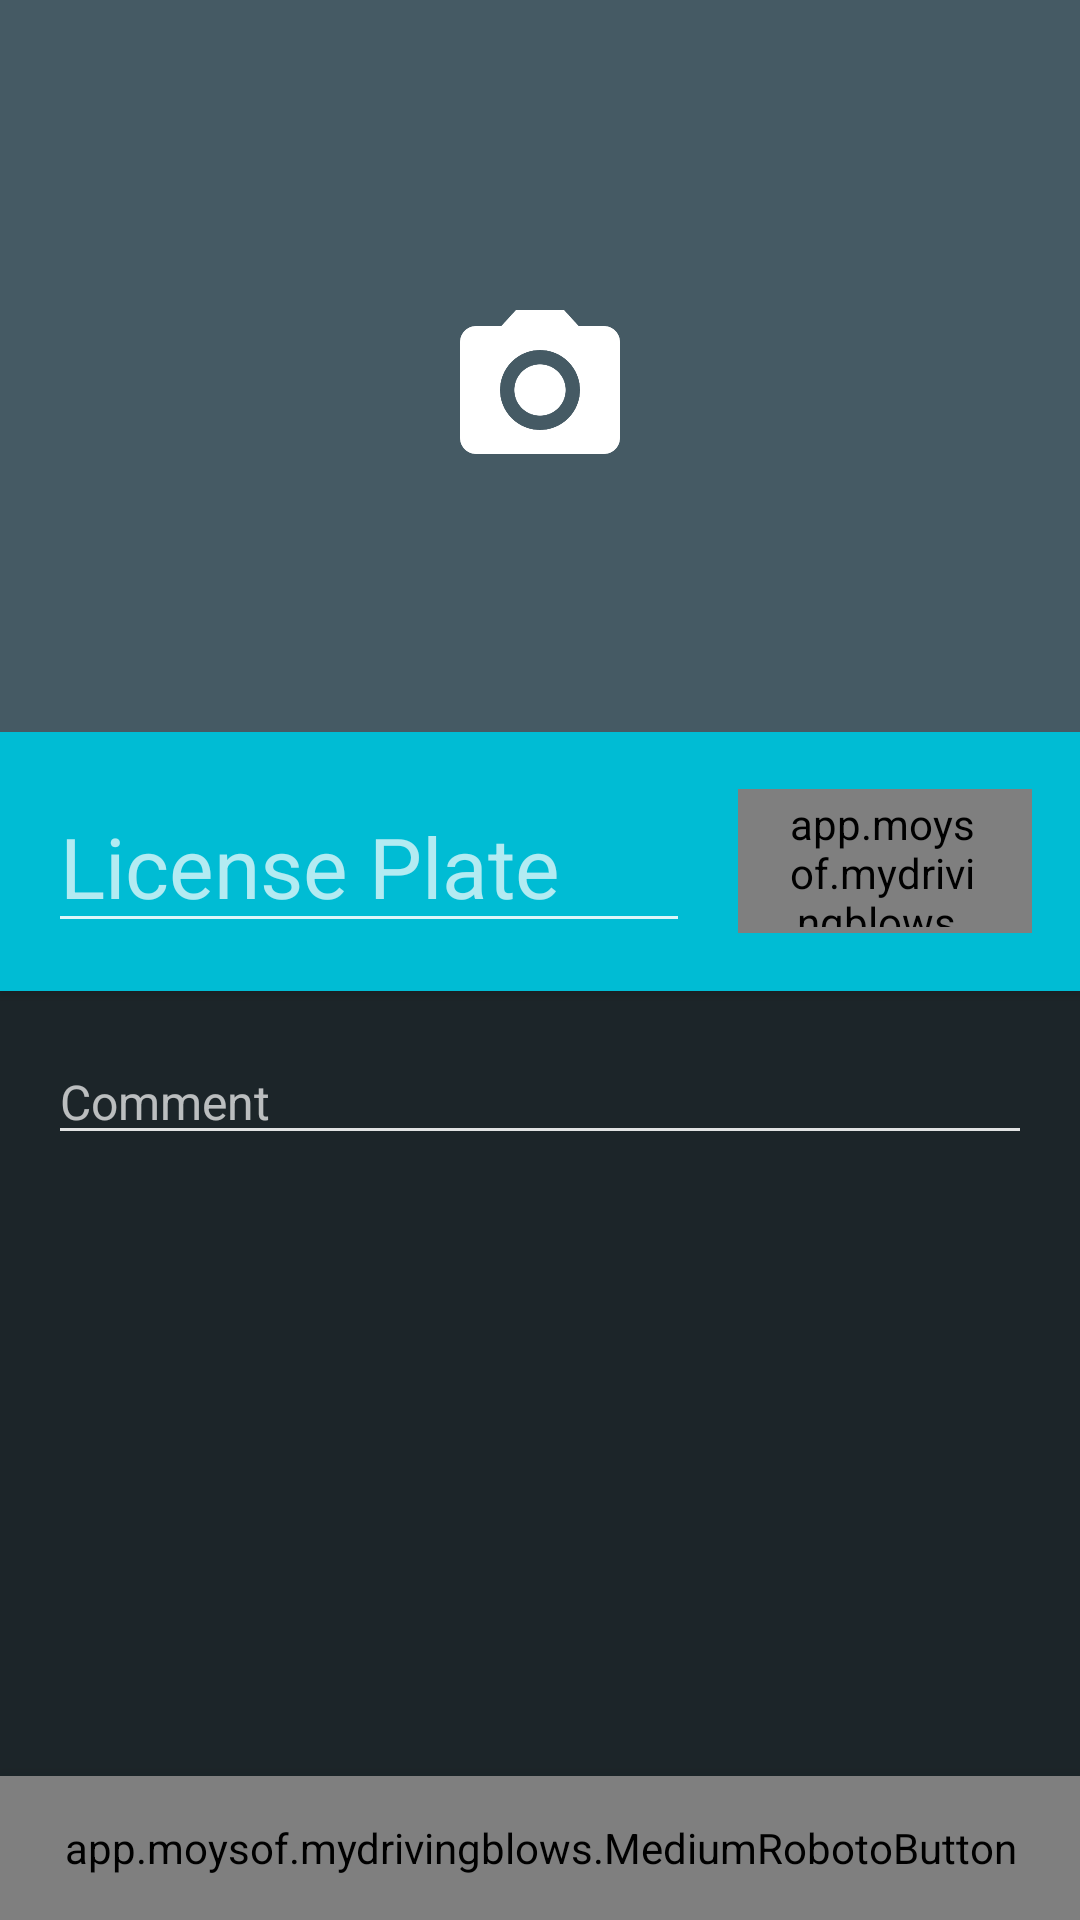

Point at icon controls on the screen. Image size 1080 × 1920, points as [x,y].
TAKE A PICTURE: [540,382]
